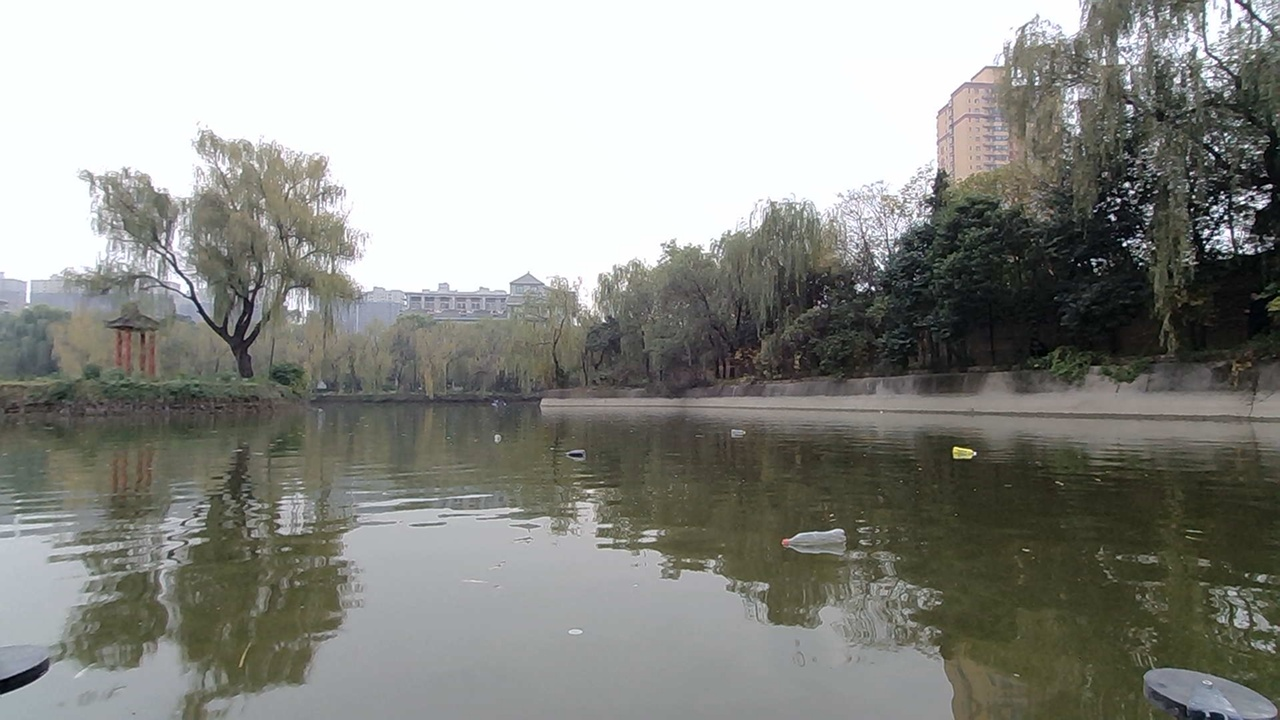bottle: (780, 497, 861, 569), (464, 424, 532, 454), (563, 430, 607, 470), (946, 433, 979, 467), (728, 419, 765, 442)
